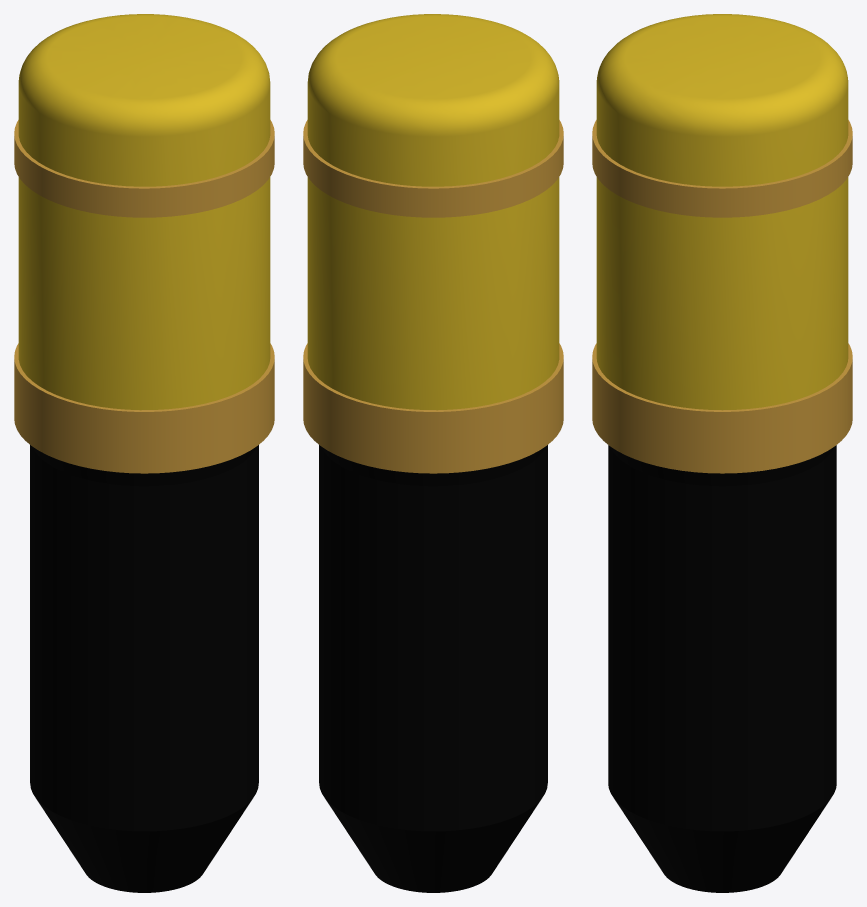
3 renders of one model, left to right at view 1: azimuth 30°, elevation 25°; view 2: azimuth 150°, elevation 25°; view 3: azimuth 270°, elevation 25°, orthographic.
Parts seen in each view (by area): view 1: body_shell, head_core, lower_band, upper_band; view 2: body_shell, head_core, lower_band, upper_band; view 3: body_shell, head_core, lower_band, upper_band.
Boxes of the visible parts, x1=… form: body_shell: x1=30, y1=445, x2=258, y2=892; head_core: x1=18, y1=14, x2=270, y2=410; lower_band: x1=14, y1=343, x2=274, y2=473; upper_band: x1=14, y1=120, x2=274, y2=217; body_shell: x1=319, y1=445, x2=547, y2=892; head_core: x1=307, y1=14, x2=559, y2=410; lower_band: x1=303, y1=343, x2=563, y2=473; upper_band: x1=303, y1=120, x2=563, y2=217; body_shell: x1=608, y1=445, x2=836, y2=892; head_core: x1=596, y1=14, x2=848, y2=410; lower_band: x1=592, y1=343, x2=852, y2=473; upper_band: x1=592, y1=120, x2=852, y2=217.
Size of the model in its own units: 0.0729 by 0.25 by 0.0729.
